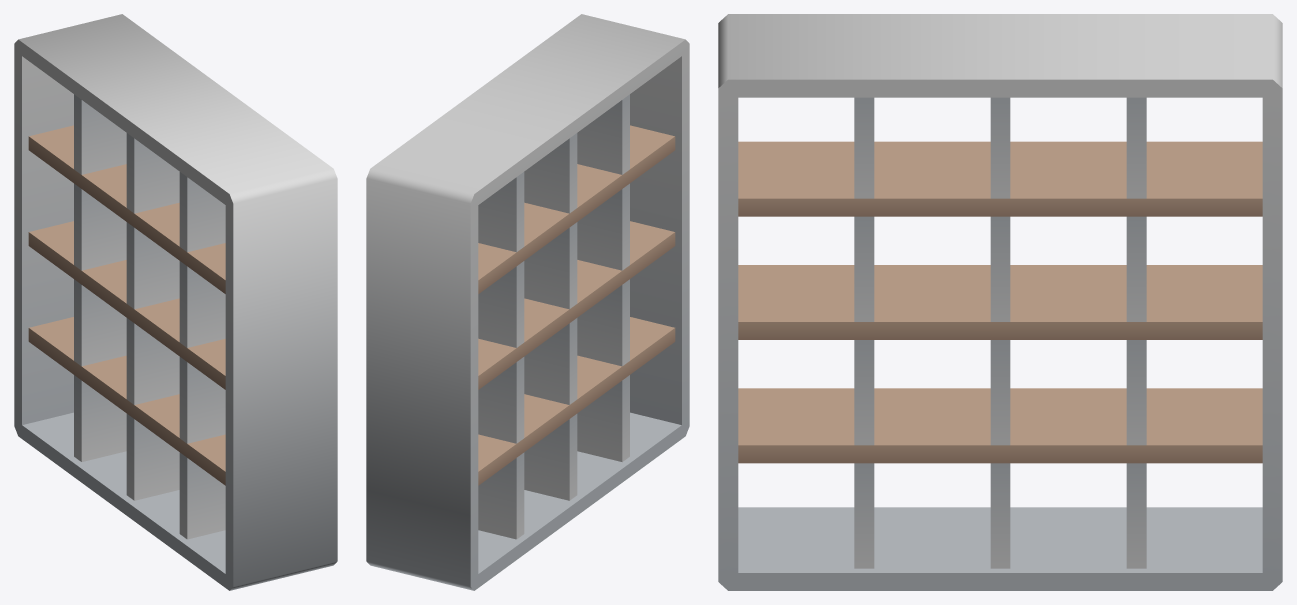
The model's file is cabinet-squares-doors-large.glb.
The picture shows the model from 3 angles, left to right: view 1: azimuth 30°, elevation 25°; view 2: azimuth 150°, elevation 25°; view 3: azimuth 270°, elevation 25°; orthographic projection. The views are drawn at different scales.
Visible parts, largest first — view 1: cabinet-squares-doors-large; view 2: cabinet-squares-doors-large; view 3: cabinet-squares-doors-large.
Boxes of the visible parts, x1,y1,x2,y2 form: cabinet-squares-doors-large: [14, 14, 337, 590]; cabinet-squares-doors-large: [366, 14, 689, 590]; cabinet-squares-doors-large: [718, 14, 1282, 590].
Bounding box in the file's own units: 0.39 × 1.42 × 1.42.
